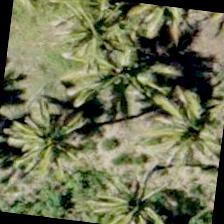Kelapa_Sawit: (74, 21, 174, 121), (44, 0, 144, 83)
